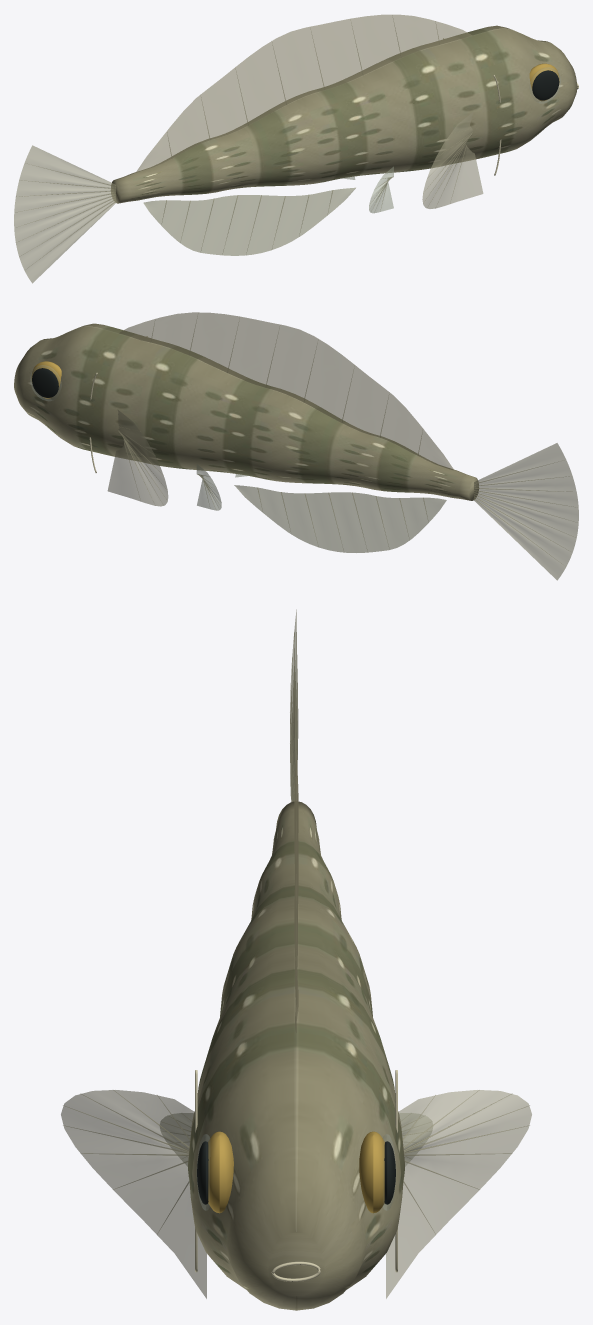
The model's file is blenny-mobile.glb.
The picture shows the model from 3 angles, top to bottom: view 1: azimuth 30°, elevation 25°; view 2: azimuth 150°, elevation 25°; view 3: azimuth 270°, elevation 25°; orthographic projection. The views are drawn at different scales.
Visible parts, largest first — view 1: skin, dorsal, anal, tail, pectoral-left, dorsal-ray, pelvic-left, eye-pupil--1; view 2: skin, dorsal, anal, tail, pectoral-left, dorsal-ray, pelvic-left, eye-pupil--1; view 3: skin, pectoral-left, eye-iris--1, dorsal-ray, pelvic-left, eye-pupil--1, tail, dorsal, operculum.
Boxes of the visible parts, x1=… form: skin: x1=111, y1=25, x2=577, y2=203; dorsal: x1=136, y1=14, x2=471, y2=172; anal: x1=143, y1=187, x2=355, y2=255; tail: x1=14, y1=145, x2=115, y2=283; pectoral-left: x1=422, y1=112, x2=483, y2=208; dorsal-ray: x1=15, y1=15, x2=472, y2=268; pelvic-left: x1=342, y1=166, x2=393, y2=213; eye-pupil--1: x1=532, y1=70, x2=559, y2=100; skin: x1=14, y1=323, x2=478, y2=500; dorsal: x1=119, y1=312, x2=454, y2=470; anal: x1=234, y1=485, x2=446, y2=552; tail: x1=474, y1=443, x2=578, y2=580; pectoral-left: x1=107, y1=410, x2=168, y2=506; dorsal-ray: x1=118, y1=322, x2=577, y2=555; pelvic-left: x1=196, y1=464, x2=247, y2=510; eye-pupil--1: x1=32, y1=368, x2=58, y2=397; skin: x1=188, y1=801, x2=404, y2=1310; pectoral-left: x1=61, y1=1090, x2=531, y2=1298; eye-iris--1: x1=208, y1=1131, x2=384, y2=1213; dorsal-ray: x1=63, y1=632, x2=529, y2=1230; pelvic-left: x1=160, y1=1113, x2=432, y2=1166; eye-pupil--1: x1=197, y1=1141, x2=395, y2=1204; tail: x1=290, y1=609, x2=298, y2=801; dorsal: x1=294, y1=749, x2=298, y2=1032; operculum: x1=195, y1=1070, x2=397, y2=1281.
Size of the model in its own units: 0.5852 by 0.2142 by 0.2136.
Materials: 11 (1 with a texture image).
